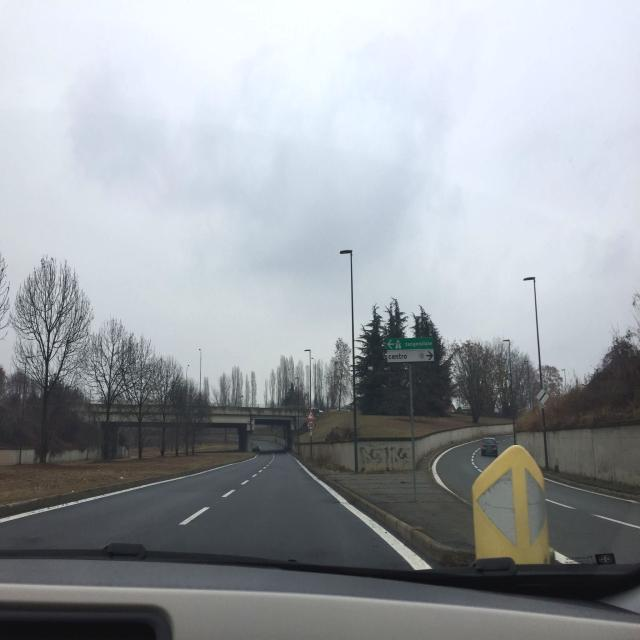car: (480, 437, 498, 456)
